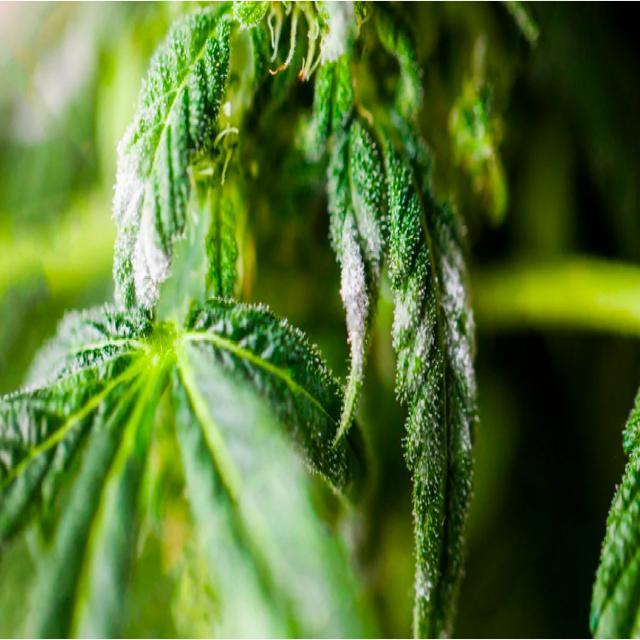Leaf_Mold: (319, 202, 500, 424), (81, 108, 196, 396), (281, 0, 390, 85)
